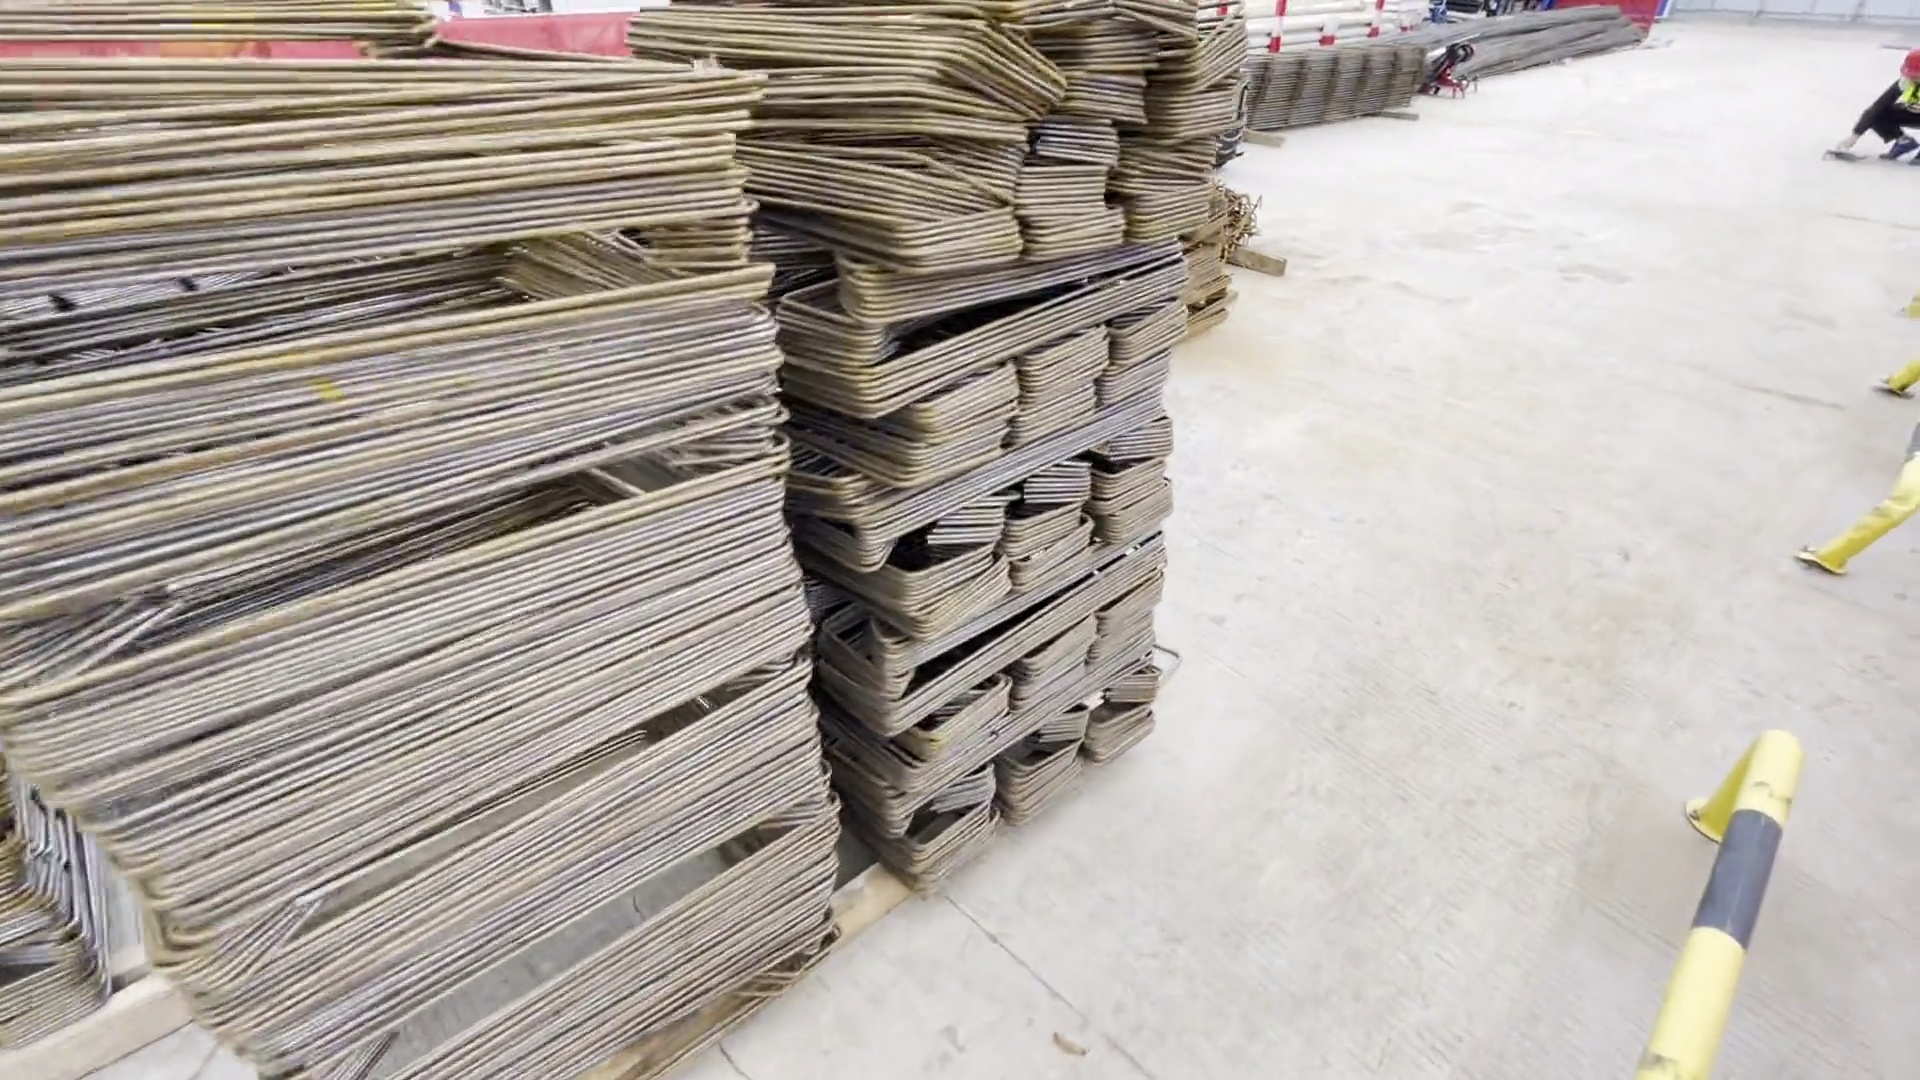cutter: (1418, 41, 1472, 98)
rebar: (1395, 5, 1640, 80)
